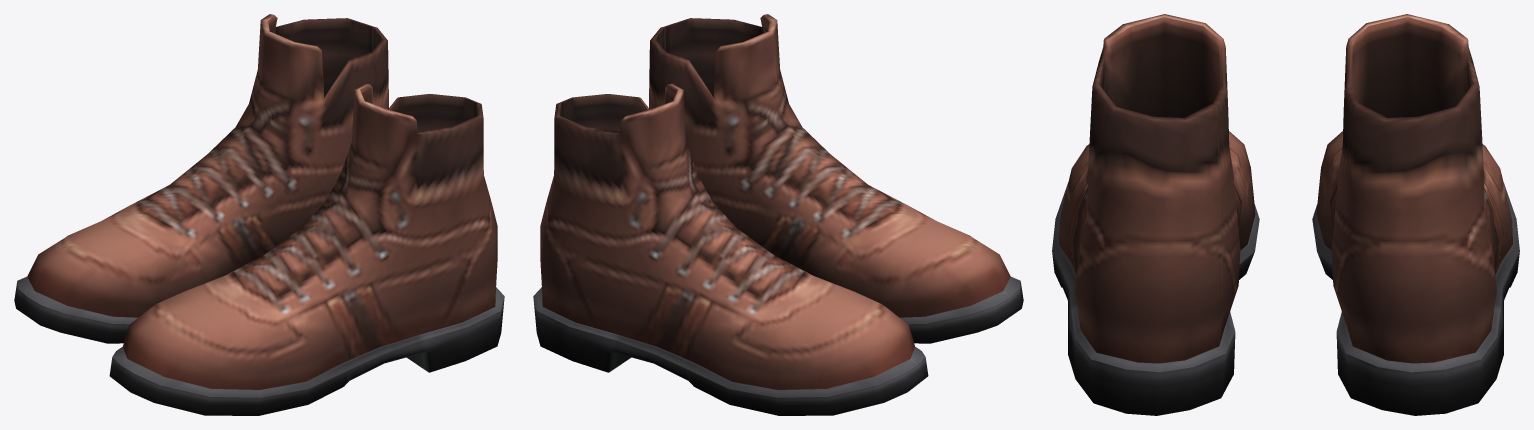
Rendered from MaLuBian_01_xuezi_01.FBX.
3 views of the same model, side by side, from view 1: azimuth 30°, elevation 25°; view 2: azimuth 150°, elevation 25°; view 3: azimuth 270°, elevation 25° (orthographic). The views are drawn at different scales.
Visible parts, largest first — view 1: MaLuBian_01_xuezi_01; view 2: MaLuBian_01_xuezi_01; view 3: MaLuBian_01_xuezi_01.
Part boxes in pixels (x1=…): MaLuBian_01_xuezi_01: x1=14, y1=14, x2=504, y2=415; MaLuBian_01_xuezi_01: x1=533, y1=14, x2=1023, y2=415; MaLuBian_01_xuezi_01: x1=1052, y1=14, x2=1519, y2=415.
Bounding box in the file's own units: 105 × 67.47 × 89.17.
Materials: 1 (1 with a texture image).
